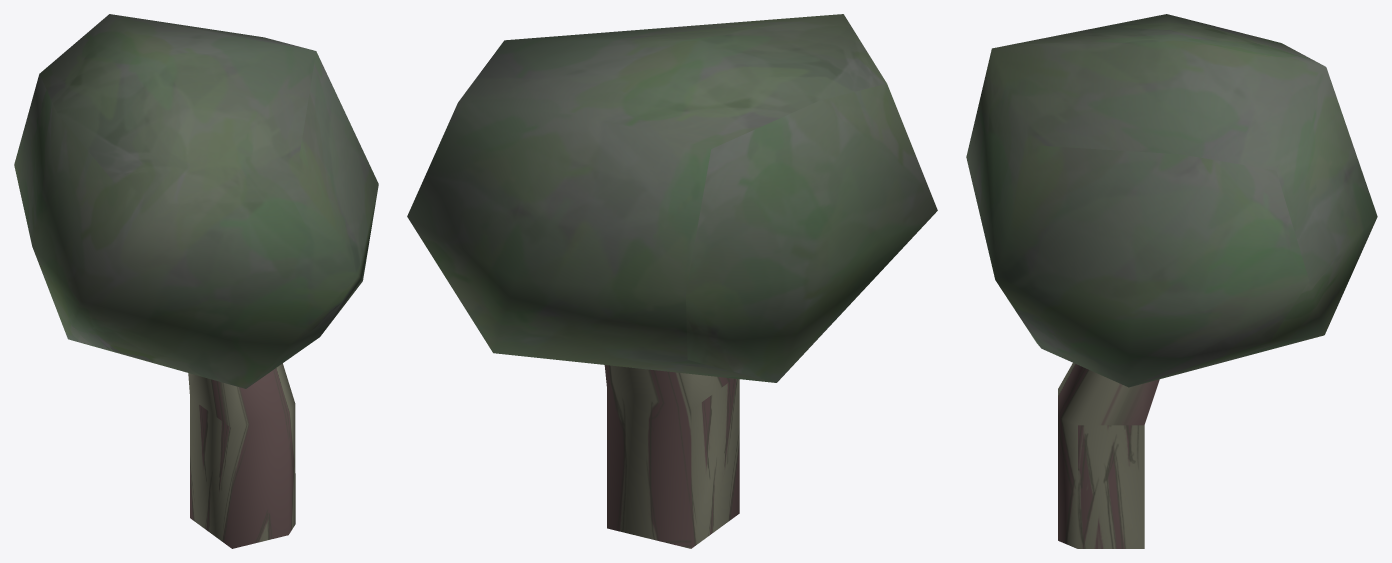
The model's file is Bush05.fbx.
3 views of the same model, side by side, from view 1: azimuth 30°, elevation 25°; view 2: azimuth 150°, elevation 25°; view 3: azimuth 270°, elevation 25° (orthographic). The views are drawn at different scales.
Visible parts, largest first — view 1: Bush05; view 2: Bush05; view 3: Bush05.
Part boxes in pixels (box(x1,y1,x2,y2)): Bush05: box(14, 14, 378, 548); Bush05: box(407, 14, 937, 548); Bush05: box(966, 14, 1377, 548).
Bounding box in the file's own units: 0.4304 × 0.541 × 0.4338.
Materials: 2 (2 with a texture image).
